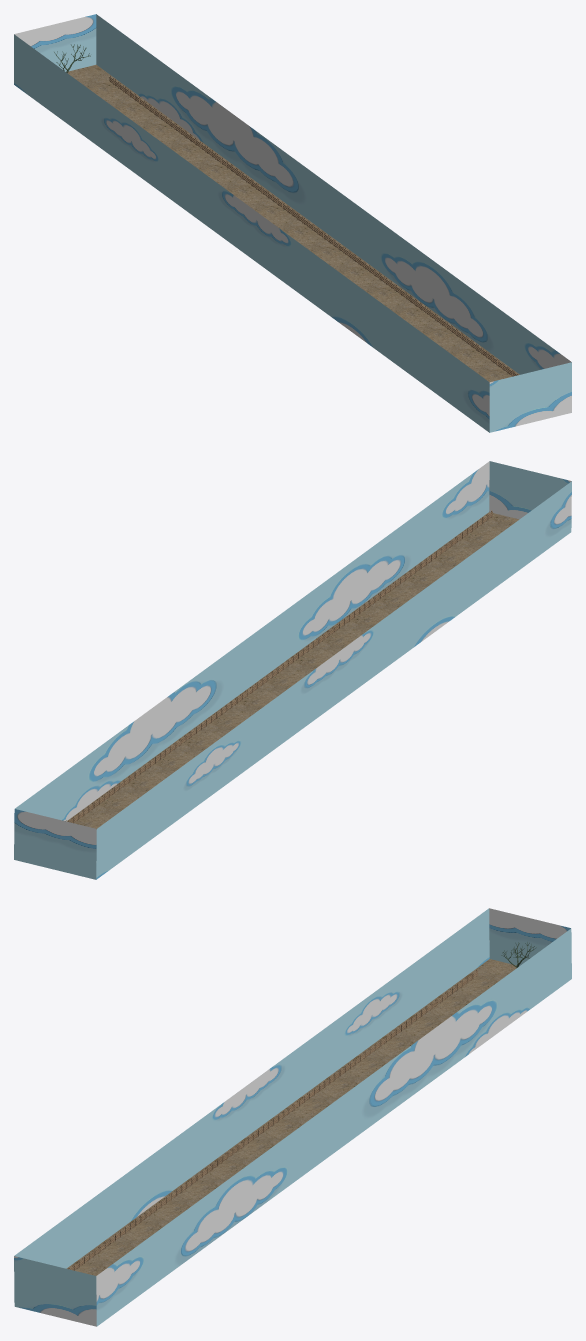
The model's file is WorldSquidGames.fbx.
3 views of the same model, one above another, from view 1: azimuth 30°, elevation 25°; view 2: azimuth 150°, elevation 25°; view 3: azimuth 330°, elevation 25° (orthographic).
Parts seen in each view (by area): view 1: Walls, Floor, WoodenFence; view 2: Walls, Floor, WoodenFence; view 3: Walls, Floor, WoodenFence.
Part boxes in pixels (x1=…): Walls: x1=14, y1=14, x2=571, y2=432; Floor: x1=67, y1=64, x2=519, y2=382; WoodenFence: x1=109, y1=75, x2=519, y2=376; Walls: x1=14, y1=461, x2=571, y2=879; Floor: x1=67, y1=512, x2=519, y2=828; WoodenFence: x1=67, y1=510, x2=492, y2=823; Walls: x1=14, y1=908, x2=571, y2=1326; Floor: x1=66, y1=959, x2=519, y2=1275; WoodenFence: x1=68, y1=969, x2=477, y2=1270.
Size of the model in its own units: 1003 by 591 by 10006.
Materials: 4 (4 with a texture image).
